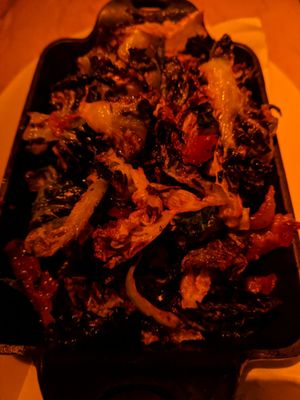sandwich: (1, 5, 297, 383)
